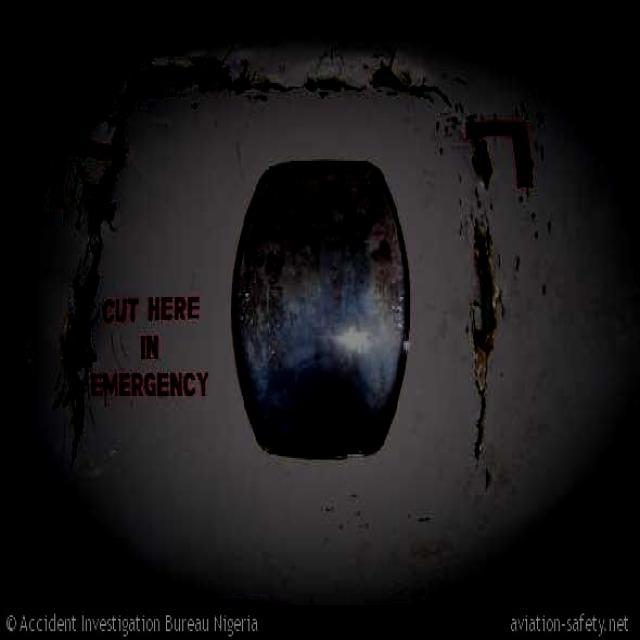crack: (54, 127, 135, 472), (132, 68, 458, 114), (469, 213, 502, 475)
